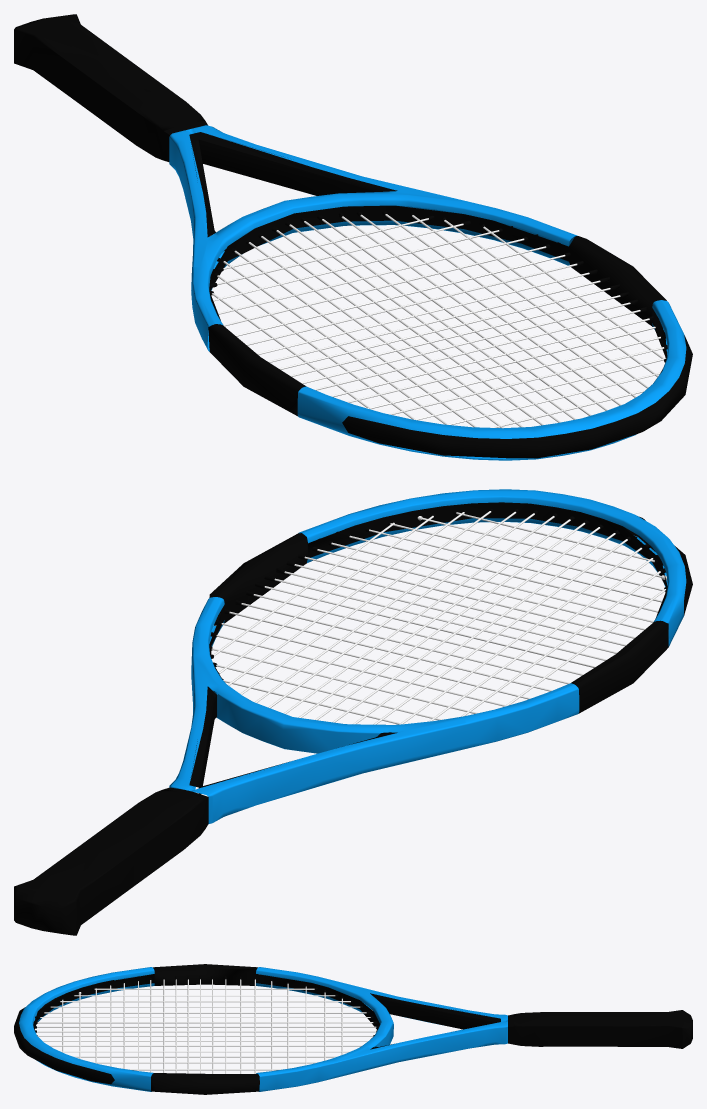
The model's file is realracket.glb.
3 renders of one model, top to bottom at view 1: azimuth 30°, elevation 25°; view 2: azimuth 150°, elevation 25°; view 3: azimuth 270°, elevation 25°, orthographic. The views are drawn at different scales.
Parts seen in each view (by area): view 1: Tennis Racket; view 2: Tennis Racket; view 3: Tennis Racket.
Boxes of the visible parts, box(x1,y1,x2,y2) form: Tennis Racket: box(14, 14, 692, 460); Tennis Racket: box(14, 489, 692, 935); Tennis Racket: box(14, 964, 692, 1094).
Bounding box in the file's own units: 0.2775 × 0.0251 × 0.69.
